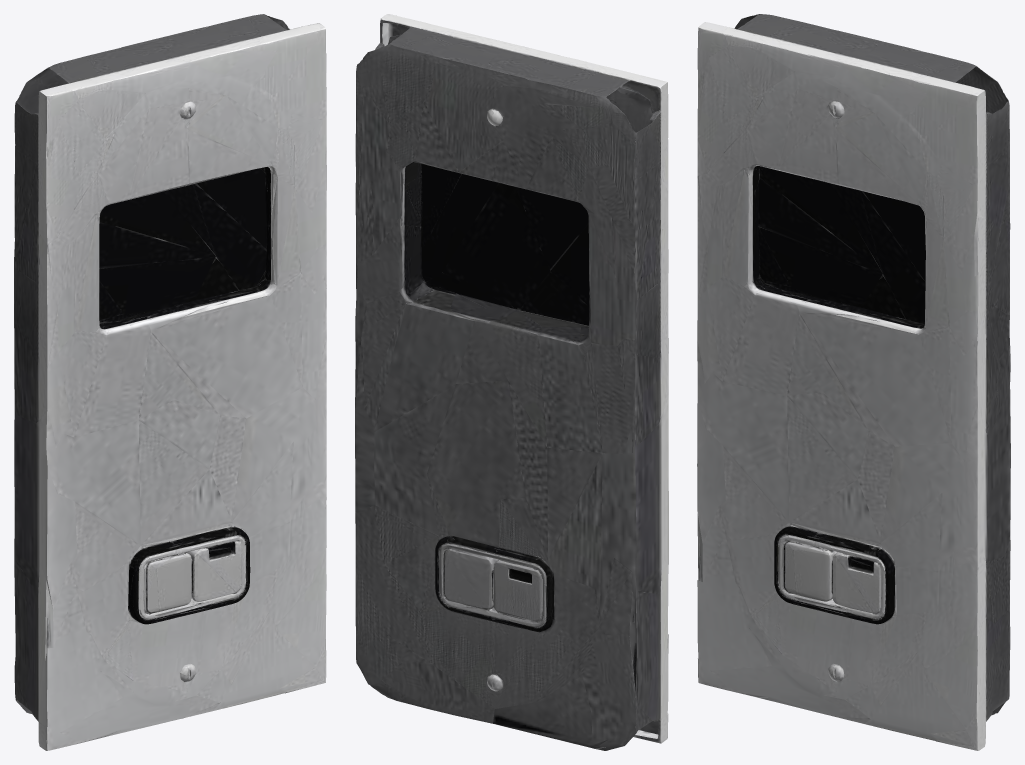
File: botonera-ventana.glb
The picture shows the model from 3 angles, left to right: view 1: azimuth 30°, elevation 25°; view 2: azimuth 150°, elevation 25°; view 3: azimuth 330°, elevation 25°; orthographic projection.
Visible parts, largest first — view 1: Mesh_0; view 2: Mesh_0; view 3: Mesh_0.
Part boxes in pixels (x1,y1,x2,y2): Mesh_0: [14, 14, 326, 750]; Mesh_0: [355, 14, 668, 750]; Mesh_0: [697, 14, 1010, 750].
Size of the model in its own units: 0.8511 by 1.9 by 0.2262.
Materials: 1 (1 with a texture image).
